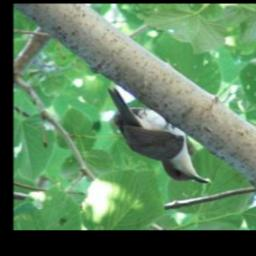Cuckoo: (106, 85, 211, 185)
